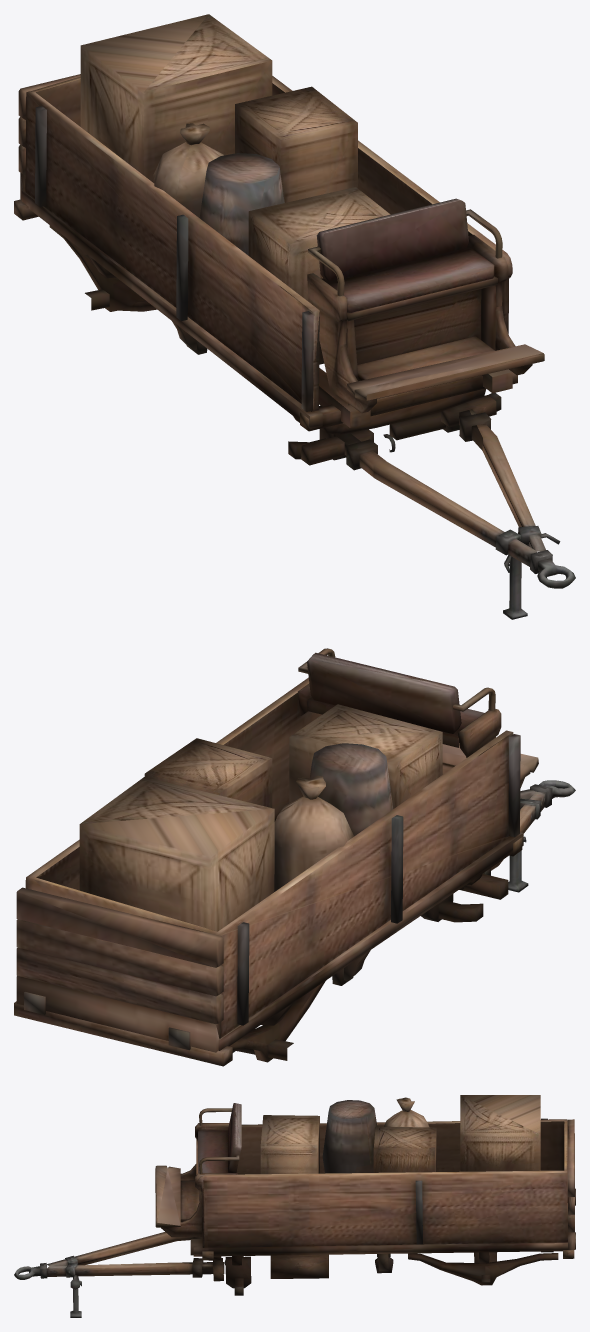
The model's file is farm.glb.
The picture shows the model from 3 angles, top to bottom: view 1: azimuth 30°, elevation 25°; view 2: azimuth 150°, elevation 25°; view 3: azimuth 270°, elevation 25°; orthographic projection. The views are drawn at different scales.
Visible parts, largest first — view 1: body, tongue; view 2: body, tongue; view 3: body, tongue.
Boxes of the visible parts, x1,y1,x2,y2 form: body: [14, 14, 544, 470]; tongue: [333, 409, 575, 619]; body: [14, 648, 538, 1066]; tongue: [459, 780, 575, 892]; body: [155, 1095, 575, 1295]; tongue: [14, 1232, 224, 1317].
Size of the model in its own units: 1.38 by 1.88 by 4.78.
Materials: 1 (1 with a texture image).
